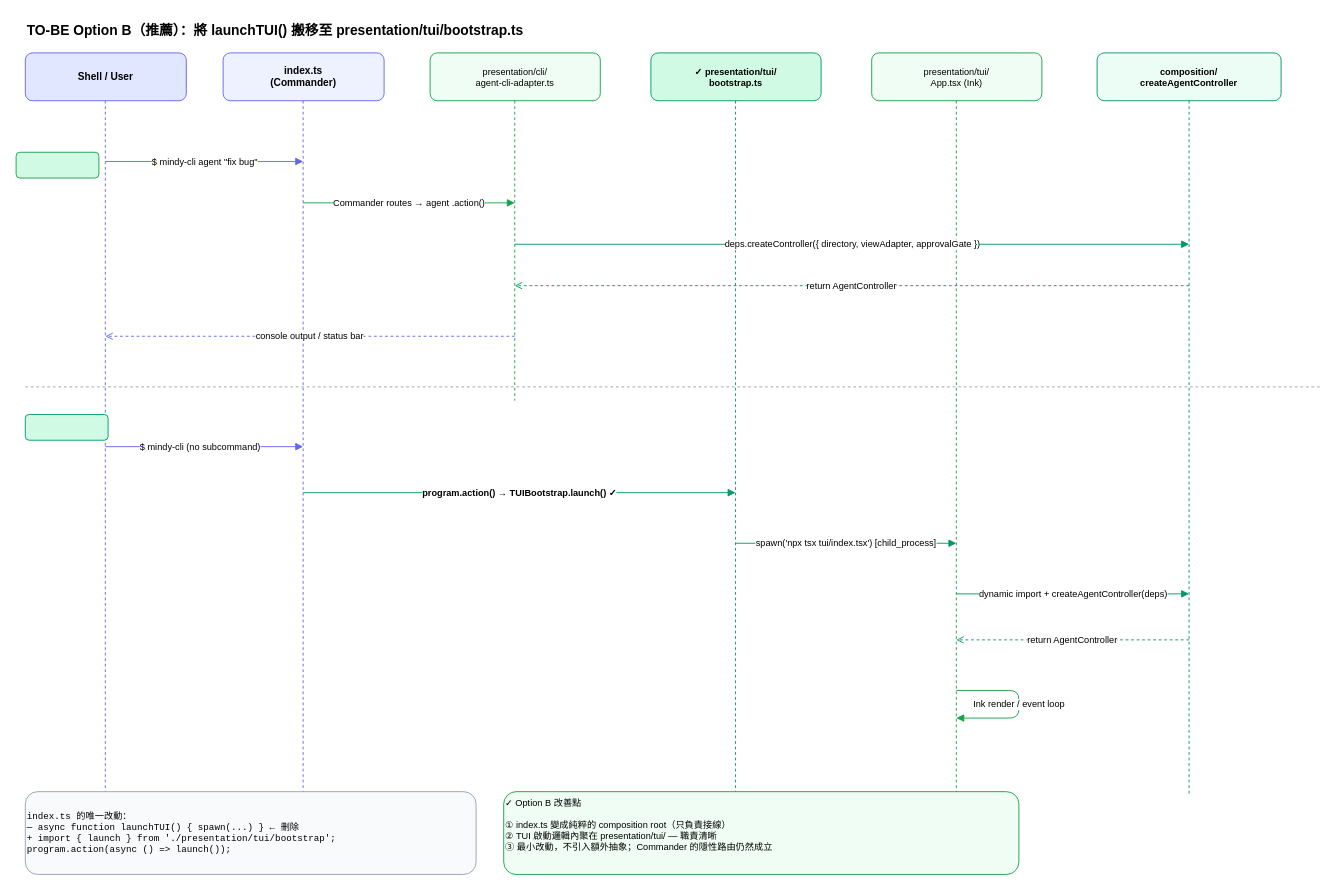
Some shapes in this 1340 by 891 pixel diagram are drawn without their labels. The centre of each missing label's shape, as x and y in pixels:
"CLI Path" goes at [57,164].
"TUI Path" goes at [66,427].
